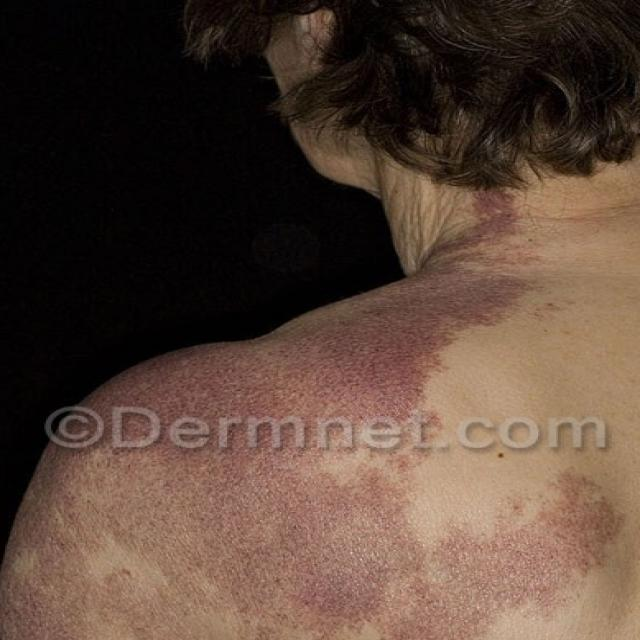Vascular Tumors: (86, 394, 628, 624), (223, 330, 481, 406), (0, 411, 66, 640), (451, 190, 529, 355), (361, 289, 563, 333)
